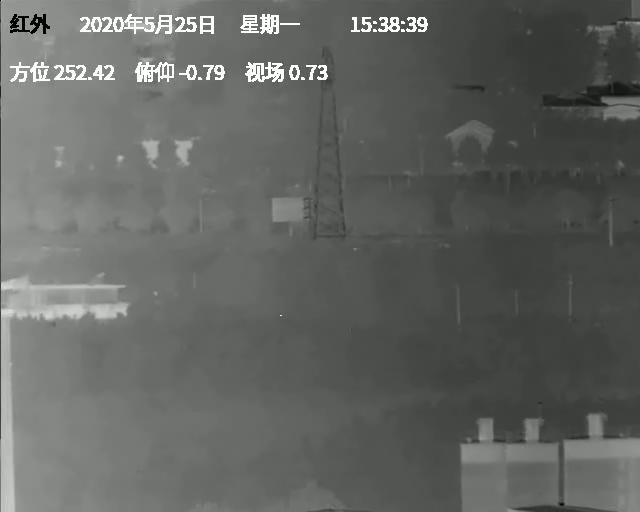uav: (352, 246, 360, 253)
